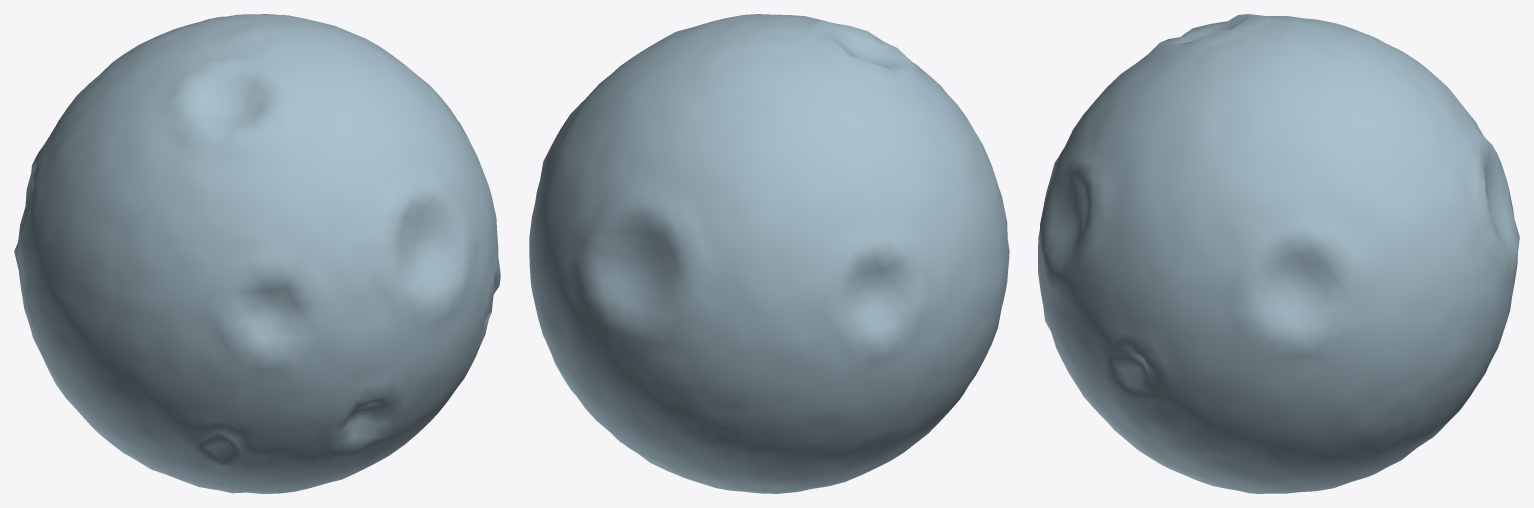
Rendered from moon.glb.
3 renders of one model, left to right at view 1: azimuth 30°, elevation 25°; view 2: azimuth 150°, elevation 25°; view 3: azimuth 270°, elevation 25°, orthographic.
Visible parts, largest first — view 1: moon | blue moon stone; view 2: moon | blue moon stone; view 3: moon | blue moon stone.
Part boxes in pixels (left/top/right/bottom): moon | blue moon stone: left=14, top=14, right=500, bottom=493; moon | blue moon stone: left=529, top=14, right=1009, bottom=493; moon | blue moon stone: left=1038, top=14, right=1519, bottom=493.
Bounding box in the file's own units: 2.01 × 2 × 2.02.
